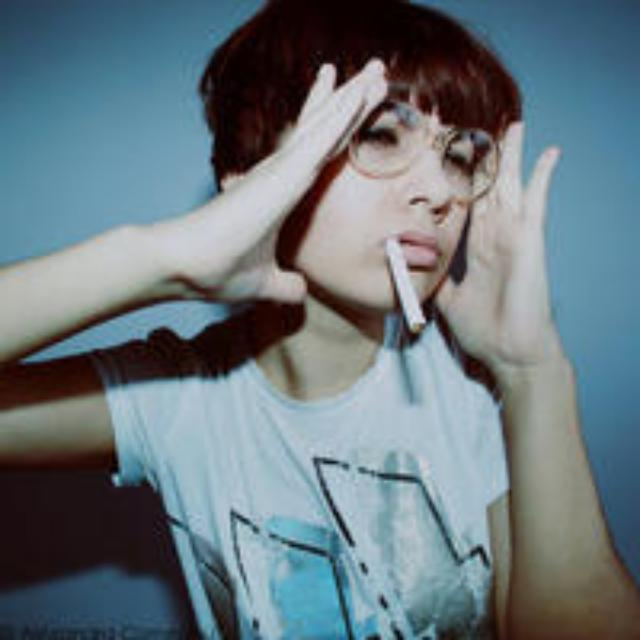SafeDriving: (350, 108, 410, 158)
Smoking: (388, 229, 428, 337)
